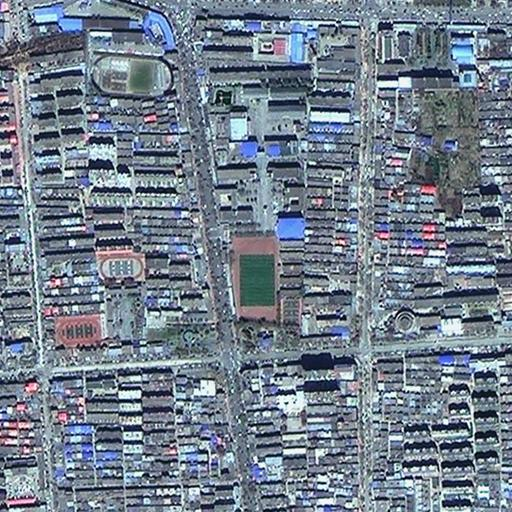school: (212, 157, 307, 326), (88, 38, 181, 100), (99, 248, 147, 340)
